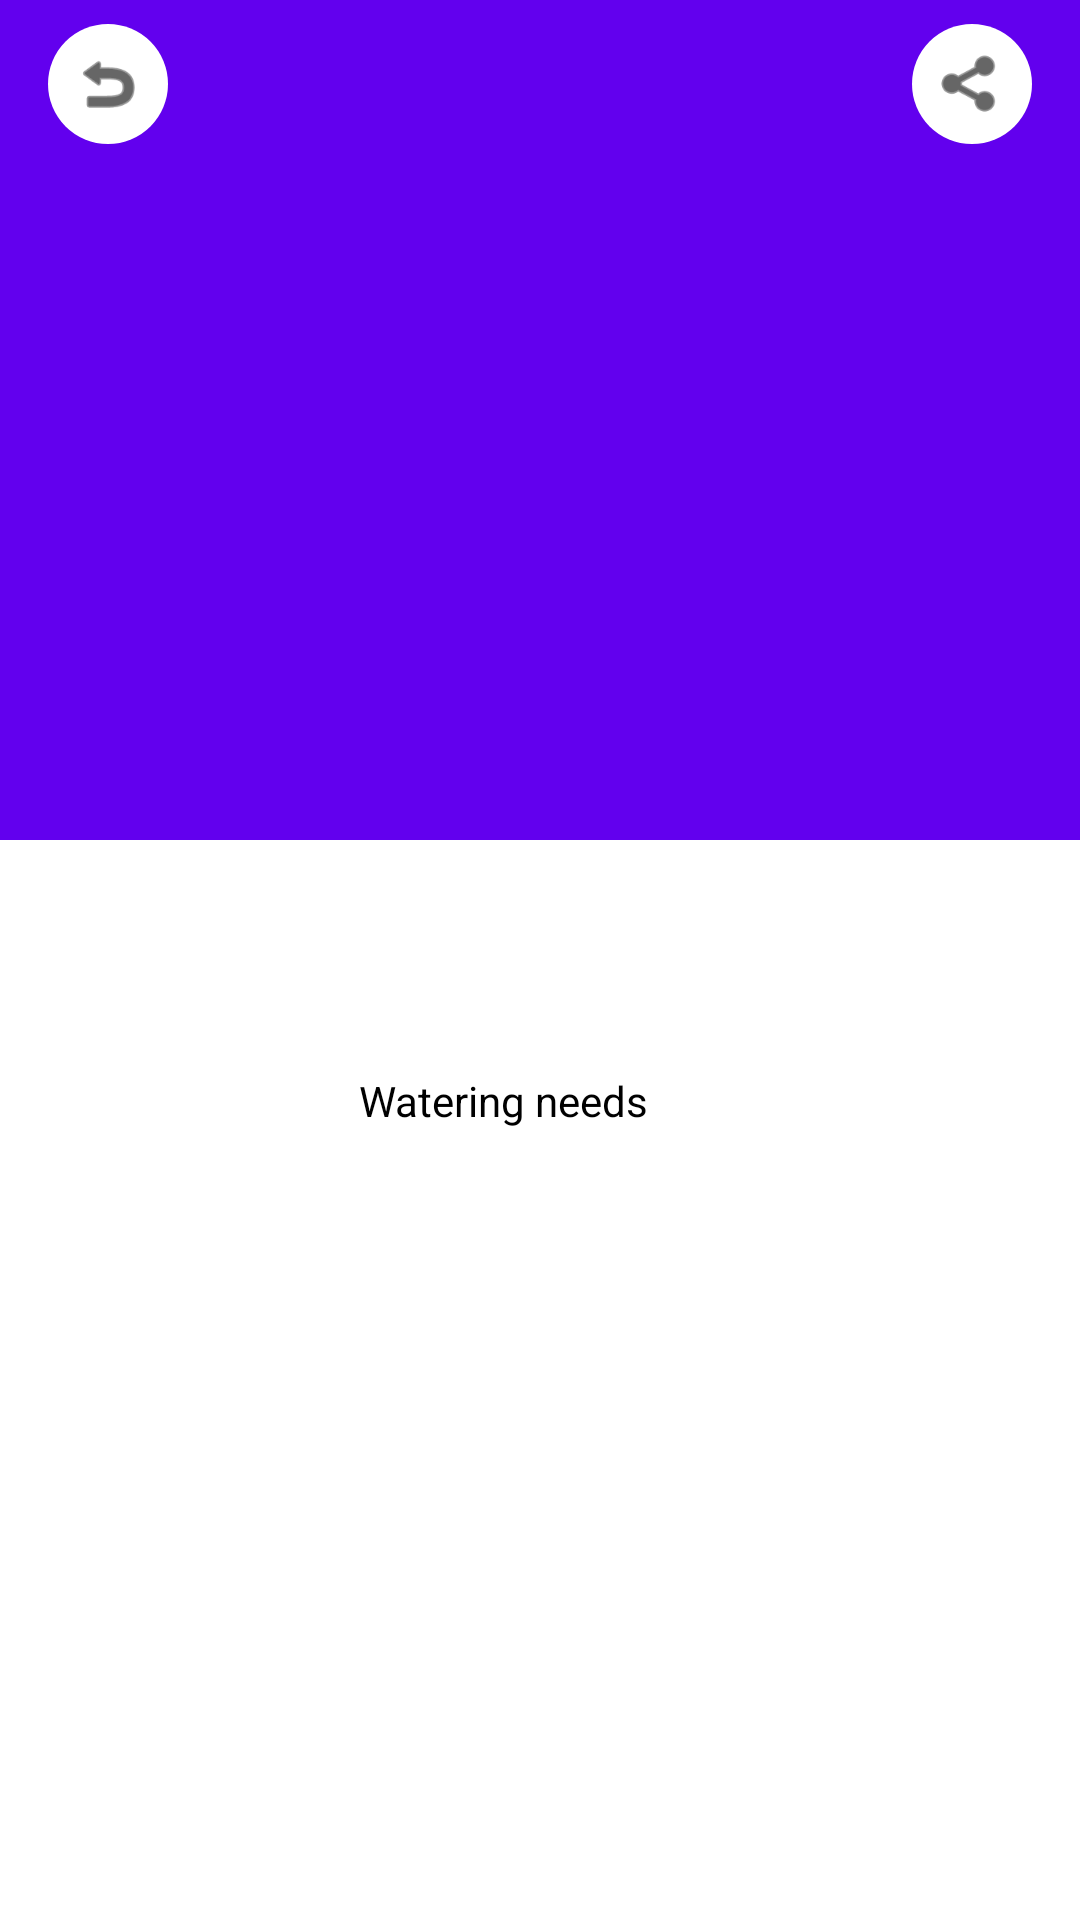

Point at icon controls on the screen. Image size 1080w x 1920h, points as point (x, y).
Share: point (972, 84)
